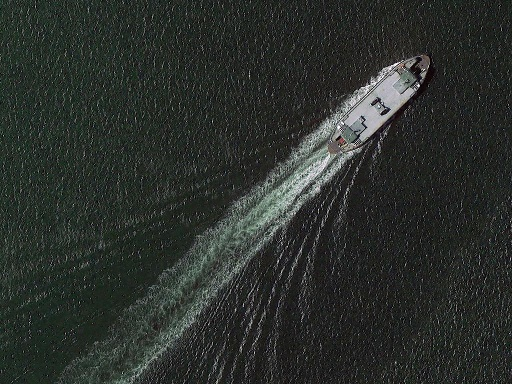ship: (318, 45, 441, 167)
